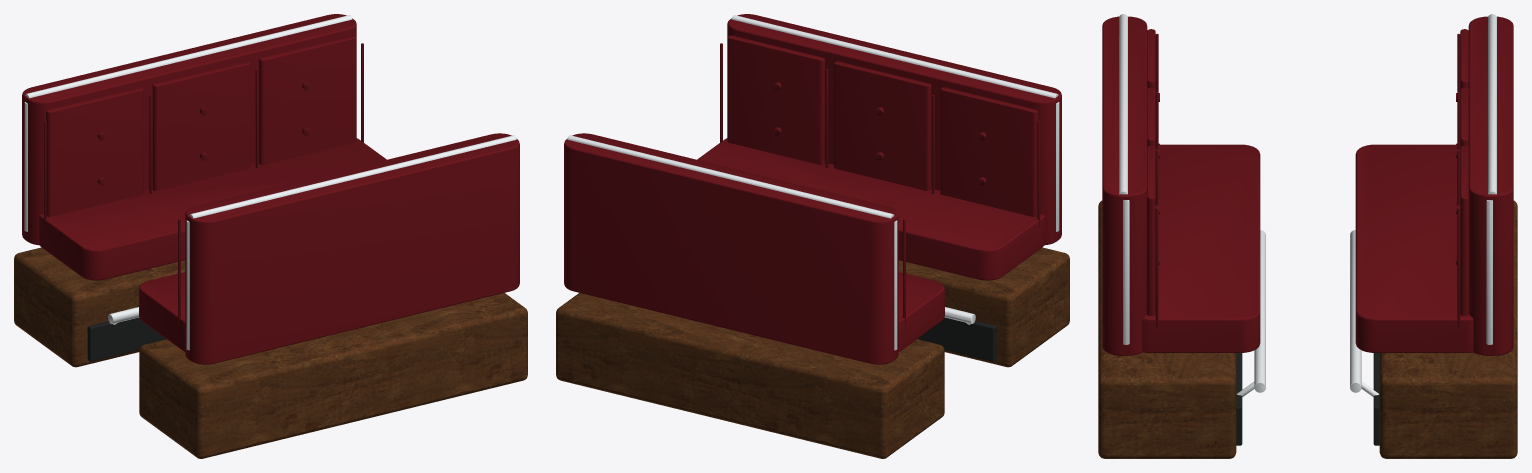
File: diner_booth_bay.glb
The picture shows the model from 3 angles, left to right: view 1: azimuth 30°, elevation 25°; view 2: azimuth 150°, elevation 25°; view 3: azimuth 270°, elevation 25°; orthographic projection. The views are drawn at different scales.
Parts seen in each view (by area): view 1: diner_booth_bay_ss_red_vinyl_pbr, diner_booth_bay_ss_period_wood_laminate_pbr, diner_booth_bay_ss_polished_chrome, diner_booth_bay_ss_black_rubber, diner_booth_bay_ss_dark_red_vinyl_pbr; view 2: diner_booth_bay_ss_red_vinyl_pbr, diner_booth_bay_ss_period_wood_laminate_pbr, diner_booth_bay_ss_polished_chrome, diner_booth_bay_ss_black_rubber, diner_booth_bay_ss_dark_red_vinyl_pbr; view 3: diner_booth_bay_ss_red_vinyl_pbr, diner_booth_bay_ss_period_wood_laminate_pbr, diner_booth_bay_ss_polished_chrome, diner_booth_bay_ss_dark_red_vinyl_pbr, diner_booth_bay_ss_black_rubber.
Boxes of the visible parts, x1=… form: diner_booth_bay_ss_red_vinyl_pbr: x1=22, y1=14, x2=519, y2=364; diner_booth_bay_ss_period_wood_laminate_pbr: x1=14, y1=247, x2=527, y2=458; diner_booth_bay_ss_polished_chrome: x1=24, y1=15, x2=516, y2=350; diner_booth_bay_ss_black_rubber: x1=87, y1=317, x2=166, y2=361; diner_booth_bay_ss_dark_red_vinyl_pbr: x1=44, y1=43, x2=363, y2=325; diner_booth_bay_ss_red_vinyl_pbr: x1=564, y1=14, x2=1061, y2=364; diner_booth_bay_ss_period_wood_laminate_pbr: x1=556, y1=247, x2=1069, y2=458; diner_booth_bay_ss_polished_chrome: x1=567, y1=15, x2=1059, y2=350; diner_booth_bay_ss_black_rubber: x1=917, y1=317, x2=996, y2=361; diner_booth_bay_ss_dark_red_vinyl_pbr: x1=720, y1=43, x2=1039, y2=325; diner_booth_bay_ss_red_vinyl_pbr: x1=1102, y1=16, x2=1513, y2=355; diner_booth_bay_ss_period_wood_laminate_pbr: x1=1098, y1=200, x2=1517, y2=458; diner_booth_bay_ss_polished_chrome: x1=1119, y1=14, x2=1496, y2=396; diner_booth_bay_ss_dark_red_vinyl_pbr: x1=1155, y1=33, x2=1460, y2=327; diner_booth_bay_ss_black_rubber: x1=1236, y1=353, x2=1379, y2=445.
Size of the model in its own units: 1.62 by 1.11 by 1.58.
Materials: 5 (1 with a texture image).
